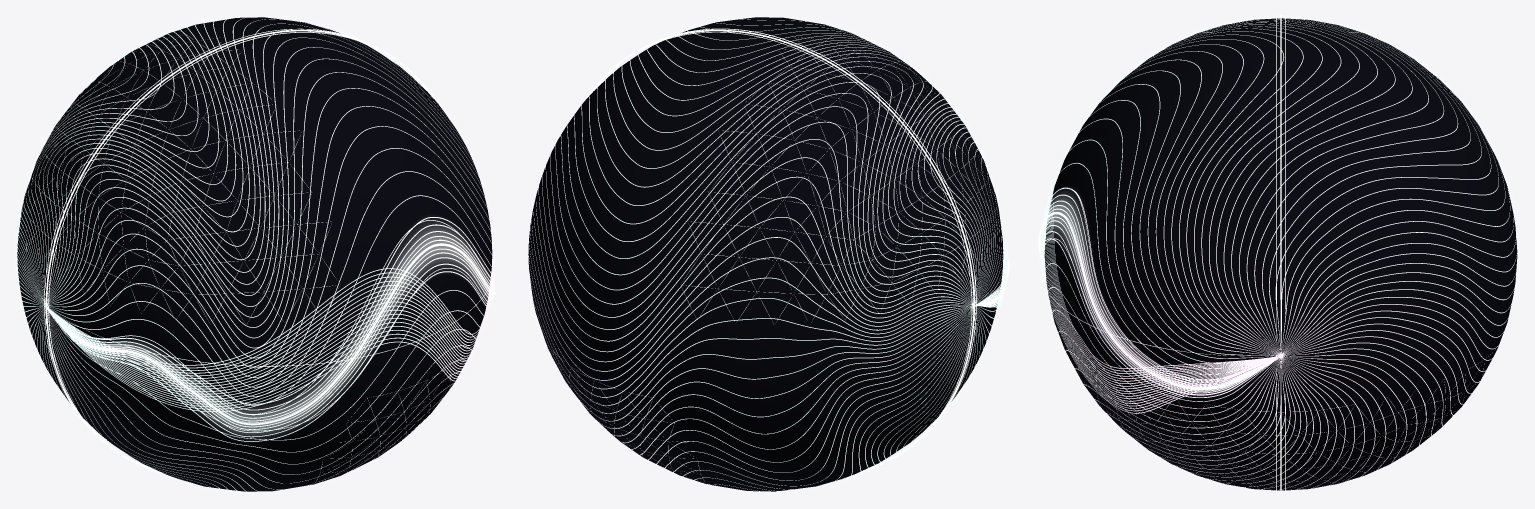
Rendered from wavez_emblem.drift-experiment.glb.
3 views of the same model, side by side, from view 1: azimuth 30°, elevation 25°; view 2: azimuth 150°, elevation 25°; view 3: azimuth 270°, elevation 25° (orthographic).
Parts seen in each view (by area): view 1: Wavez_Luminous_Body.004, Wavez_Luminous_Swirling_Layers.004, Wavez_Luminous_Energy_Band.004, Wavez_Luminous_Energy_Mantle.003, Wavez_Luminous_Depth_Network.004; view 2: Wavez_Luminous_Body.004, Wavez_Luminous_Swirling_Layers.004, Wavez_Luminous_Energy_Band.004, Wavez_Luminous_Depth_Network.004; view 3: Wavez_Luminous_Body.004, Wavez_Luminous_Swirling_Layers.004, Wavez_Luminous_Energy_Band.004, Wavez_Luminous_Energy_Mantle.003, Wavez_Luminous_Depth_Network.004.
Boxes of the visible parts, x1=… form: Wavez_Luminous_Body.004: x1=17, y1=17, x2=492, y2=491; Wavez_Luminous_Swirling_Layers.004: x1=14, y1=14, x2=495, y2=494; Wavez_Luminous_Energy_Band.004: x1=44, y1=28, x2=495, y2=475; Wavez_Luminous_Energy_Mantle.003: x1=78, y1=226, x2=494, y2=435; Wavez_Luminous_Depth_Network.004: x1=19, y1=30, x2=478, y2=492; Wavez_Luminous_Body.004: x1=528, y1=17, x2=1003, y2=491; Wavez_Luminous_Swirling_Layers.004: x1=525, y1=14, x2=1006, y2=494; Wavez_Luminous_Energy_Band.004: x1=583, y1=28, x2=1009, y2=474; Wavez_Luminous_Depth_Network.004: x1=538, y1=30, x2=1001, y2=486; Wavez_Luminous_Body.004: x1=1044, y1=18, x2=1517, y2=490; Wavez_Luminous_Swirling_Layers.004: x1=1041, y1=15, x2=1520, y2=493; Wavez_Luminous_Energy_Band.004: x1=1038, y1=14, x2=1285, y2=494; Wavez_Luminous_Energy_Mantle.003: x1=1040, y1=196, x2=1234, y2=393; Wavez_Luminous_Depth_Network.004: x1=1051, y1=15, x2=1503, y2=493.
Size of the model in its own units: 2.02 by 2.01 by 2.01.
